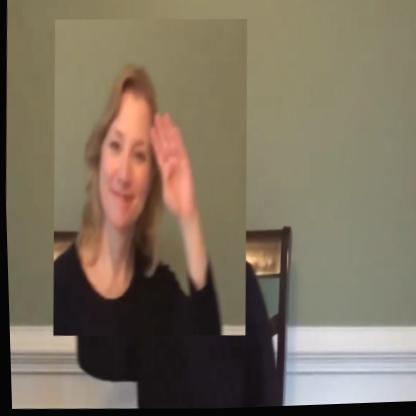Hello: (44, 14, 255, 343)
